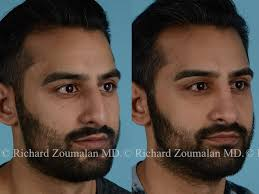middle_eastern_male: (16, 13, 123, 171)
